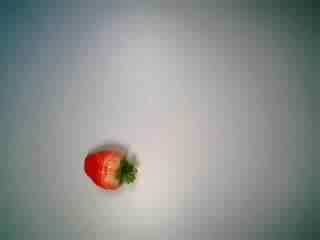strawberry: (79, 135, 145, 197)
